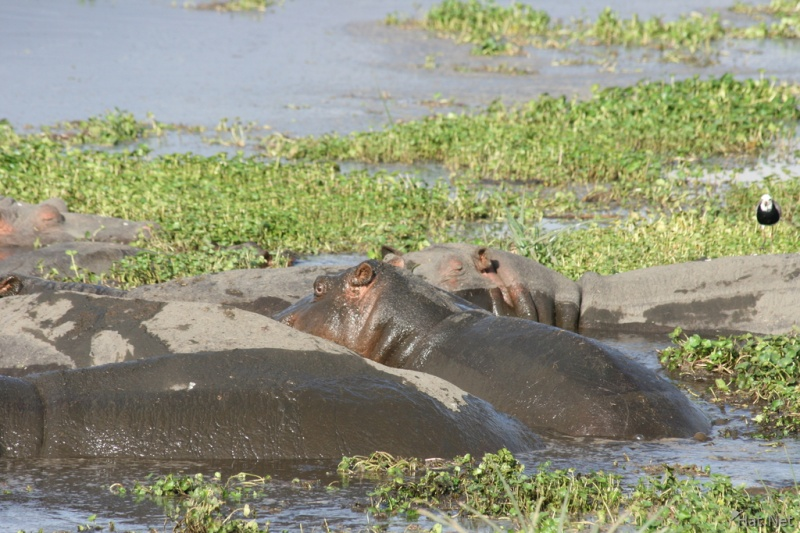hipopotamo: (264, 246, 717, 450)
